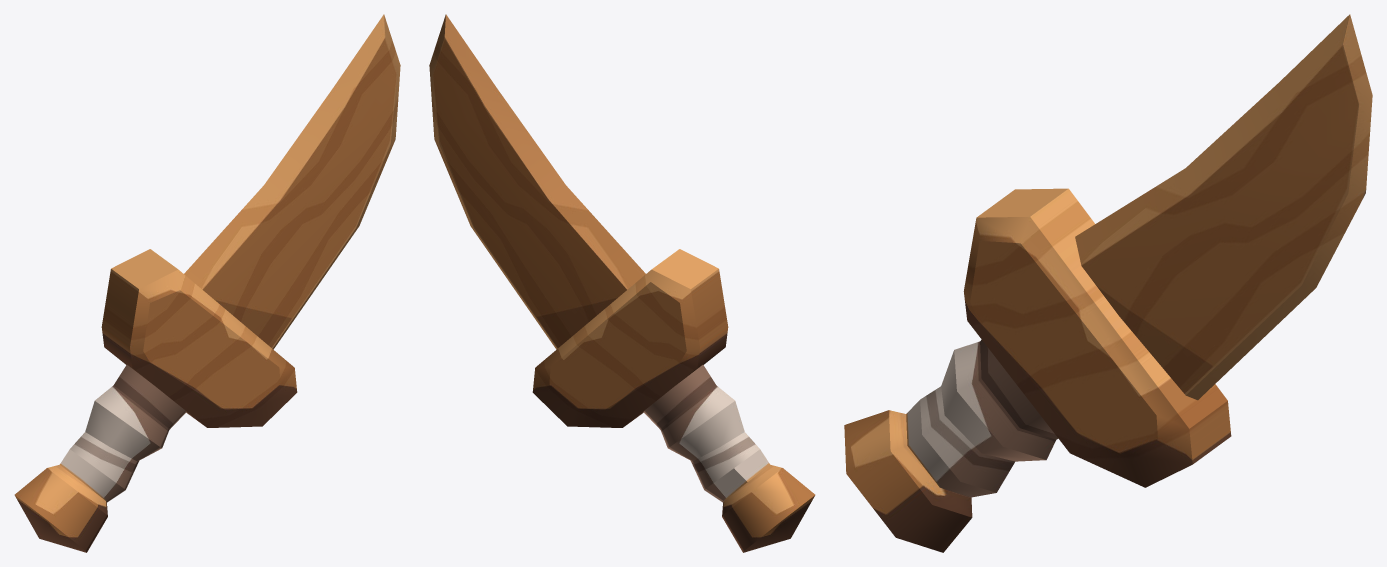
File: Wood_02.FBX
The picture shows the model from 3 angles, left to right: view 1: azimuth 30°, elevation 25°; view 2: azimuth 150°, elevation 25°; view 3: azimuth 330°, elevation 25°; orthographic projection. The views are drawn at different scales.
Visible parts, largest first — view 1: Wood_02; view 2: Wood_02; view 3: Wood_02.
Boxes of the visible parts, left/top/right/bottom form: Wood_02: left=14, top=14, right=400, bottom=552; Wood_02: left=429, top=14, right=815, bottom=552; Wood_02: left=844, top=14, right=1372, bottom=552.
Bounding box in the file's own units: 61.07 × 70.49 × 10.08.
